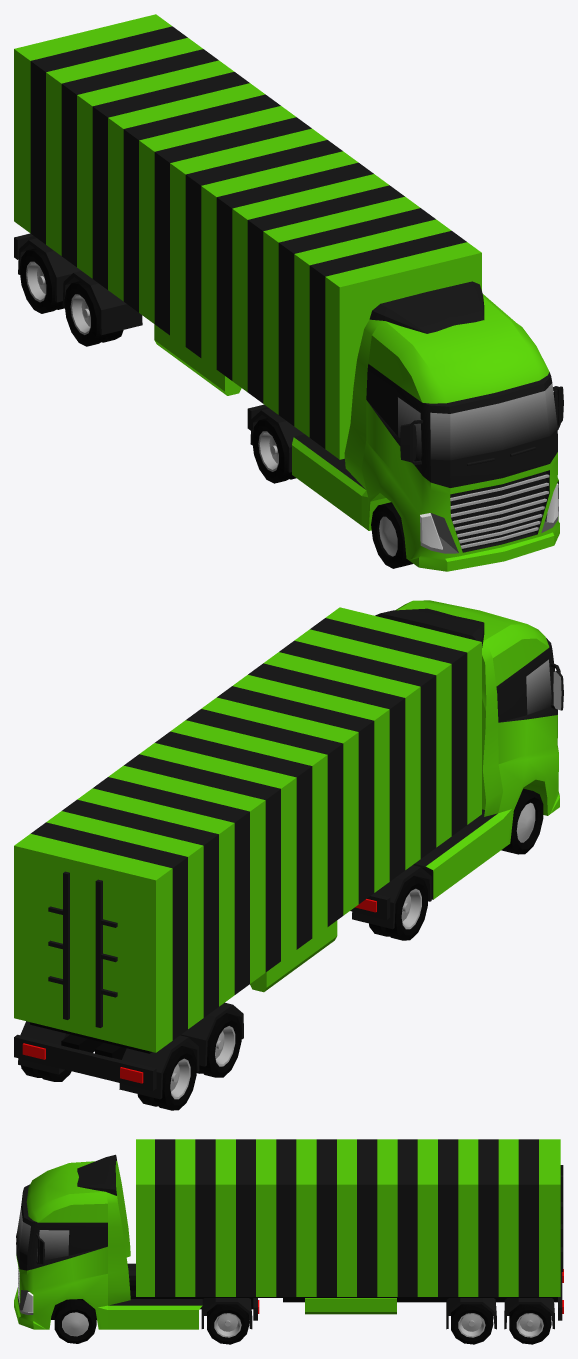
File: truck 3.fbx
The picture shows the model from 3 angles, top to bottom: view 1: azimuth 30°, elevation 25°; view 2: azimuth 150°, elevation 25°; view 3: azimuth 270°, elevation 25°; orthographic projection. The views are drawn at different scales.
Visible parts, largest first — view 1: Cube, Plane, Plane.001, Cylinder.006, Cylinder.007, Cylinder.003, Cylinder.002; view 2: Cube, Plane, Plane.001, Cylinder.007, Cylinder.003, Cylinder.006, Cylinder.002; view 3: Cube, Plane, Plane.001, Cylinder, Cylinder.005, Cylinder.004, Cylinder.001.
Boxes of the visible parts, x1=… form: Cube: x1=14, y1=14, x2=481, y2=459; Plane: x1=247, y1=281, x2=563, y2=571; Plane.001: x1=14, y1=233, x2=241, y2=395; Cylinder.006: x1=64, y1=281, x2=123, y2=346; Cylinder.007: x1=19, y1=248, x2=64, y2=313; Cylinder.003: x1=252, y1=418, x2=296, y2=483; Cylinder.002: x1=371, y1=502, x2=413, y2=568; Cube: x1=14, y1=607, x2=481, y2=1052; Plane: x1=350, y1=600, x2=563, y2=929; Plane.001: x1=14, y1=920, x2=337, y2=1099; Cylinder.007: x1=137, y1=1046, x2=196, y2=1110; Cylinder.003: x1=369, y1=876, x2=427, y2=940; Cylinder.006: x1=196, y1=1013, x2=241, y2=1077; Cylinder.002: x1=501, y1=788, x2=543, y2=854; Cube: x1=136, y1=1139, x2=563, y2=1296; Plane: x1=14, y1=1154, x2=259, y2=1329; Plane.001: x1=186, y1=1269, x2=563, y2=1329; Cylinder: x1=54, y1=1299, x2=96, y2=1343; Cylinder.005: x1=509, y1=1304, x2=551, y2=1344; Cylinder.004: x1=451, y1=1304, x2=493, y2=1344; Cylinder.001: x1=207, y1=1304, x2=249, y2=1344.
Size of the model in its own units: 105 by 150 by 469.
Materials: 1 (1 with a texture image).
